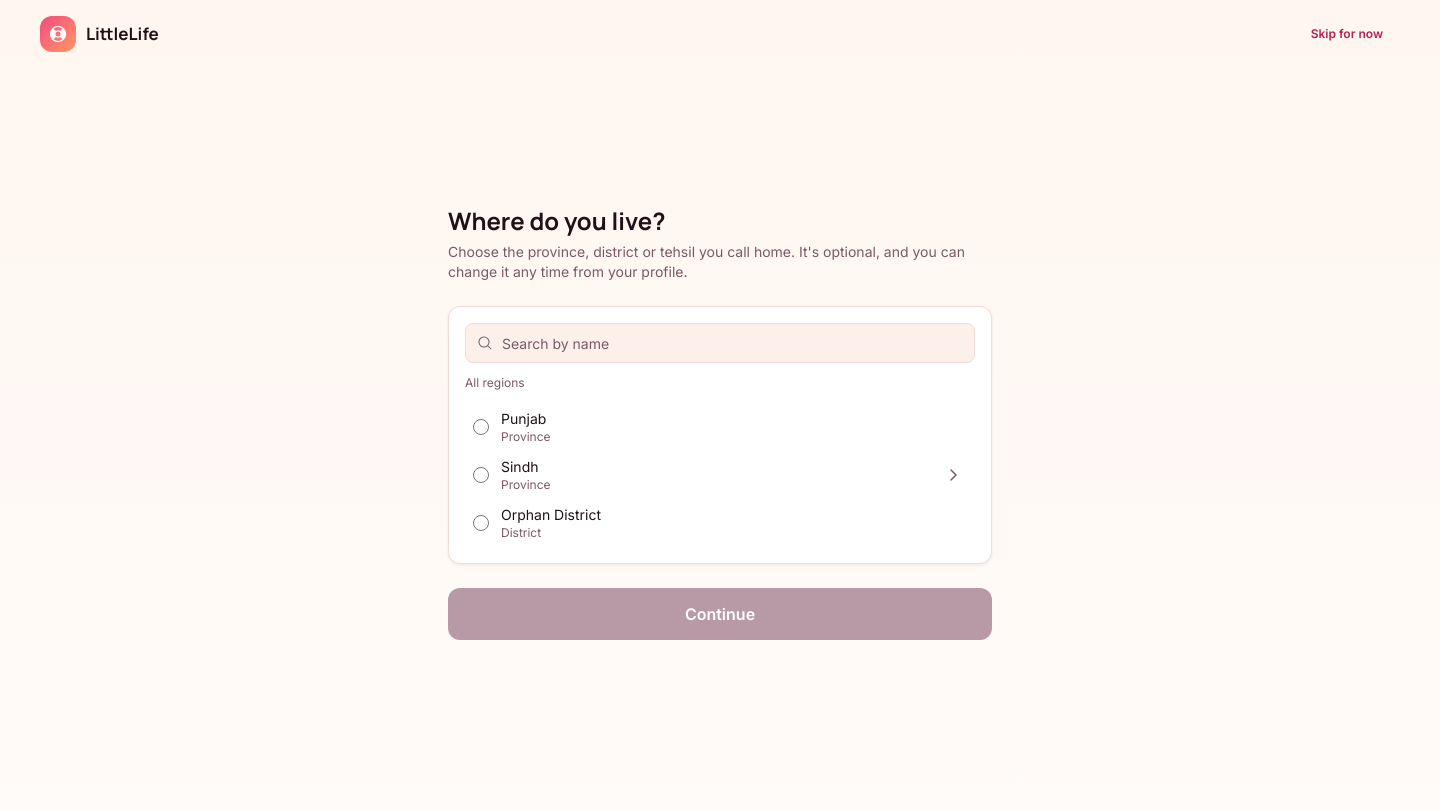
OnboardingRegionPage › shows the server’s message and stays put when the save is refused
Click the radio button labelled "Punjab Province": (481, 427) [473,419,489,435]
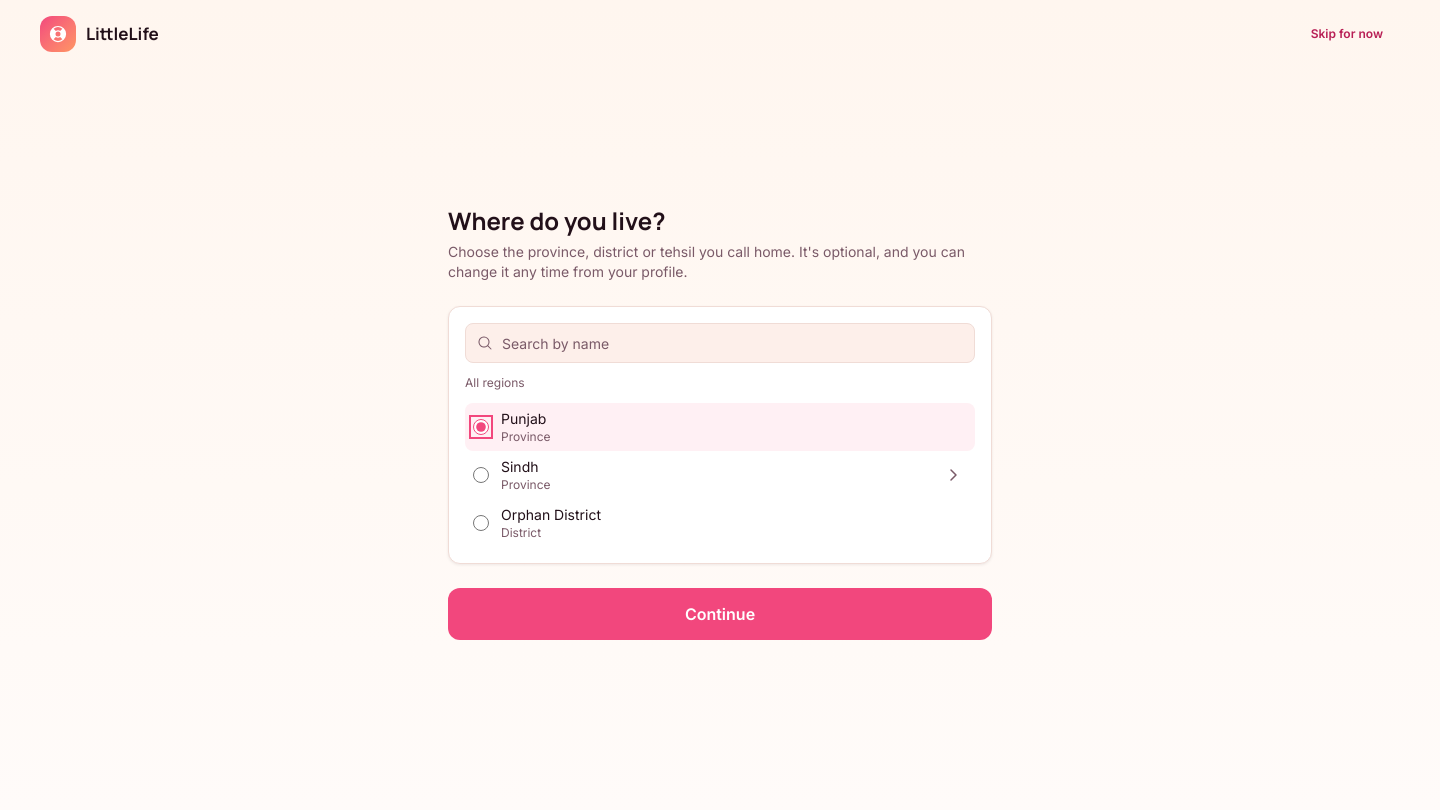
Click the button named "Continue" below "Orphan District": (720, 614) [448,588,992,640]
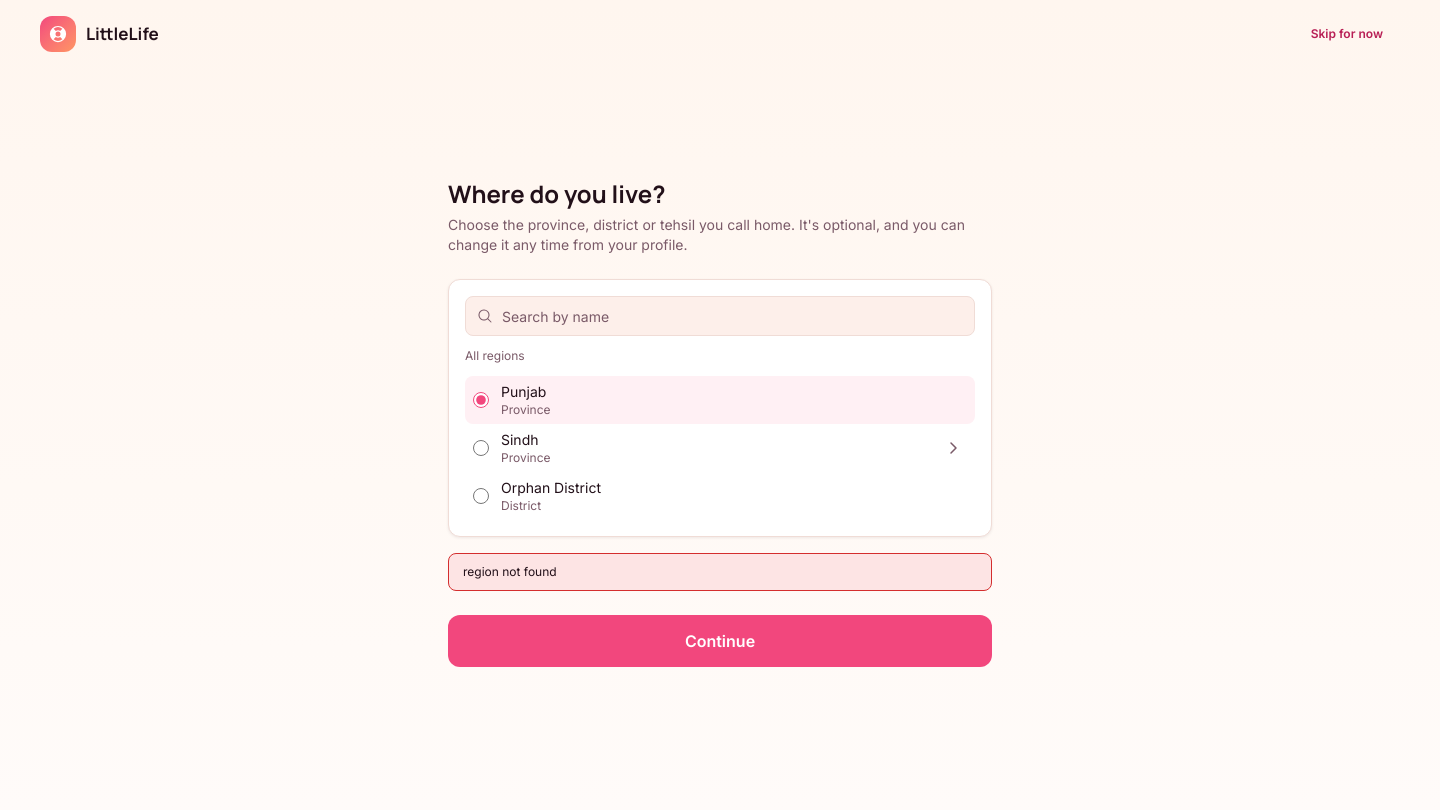
Expected: the button named "Skip for now" in the row of "LittleLife" is enabled, [1294,16,1400,52]
Expected: the message reads "region not found", [463,564,557,579]
